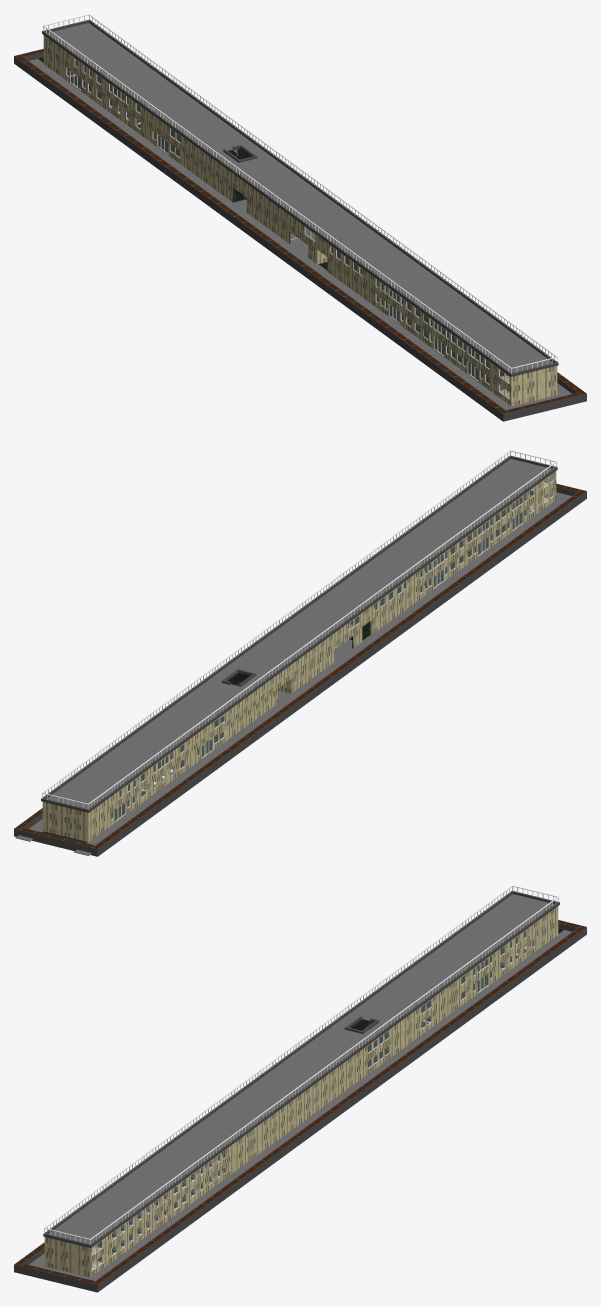
File: build_chunked.glb
The picture shows the model from 3 angles, top to bottom: view 1: azimuth 30°, elevation 25°; view 2: azimuth 150°, elevation 25°; view 3: azimuth 330°, elevation 25°; orthographic projection.
Visible parts, largest first — view 1: chunk_0_-3, chunk_-1_-3, chunk_-1_-5, chunk_0_-1, chunk_0_-5, chunk_0_0, chunk_0_-7, chunk_-1_-1, chunk_0_1, chunk_-1_-6; view 2: chunk_0_-3, chunk_-1_-3, chunk_-1_-5, chunk_0_-1, chunk_0_1, chunk_0_-5, chunk_0_0, chunk_-1_-1, chunk_-1_-6, chunk_0_2, chunk_0_-7; view 3: chunk_0_-3, chunk_0_-5, chunk_0_-1, chunk_-1_-3, chunk_0_-7, chunk_0_1, chunk_0_0, chunk_0_-2.
Boxes of the visible parts, x1,y1,x2,y2 form: chunk_0_-3: (47,18,586,402); chunk_-1_-3: (14,29,514,421); chunk_-1_-5: (317,235,493,392); chunk_0_-1: (63,49,317,248); chunk_0_-5: (319,247,558,407); chunk_0_0: (38,57,250,211); chunk_0_-7: (500,350,581,420); chunk_-1_-1: (148,126,223,195); chunk_0_1: (42,14,101,92); chunk_-1_-6: (430,319,482,381); chunk_0_-3: (14,451,551,841); chunk_-1_-3: (74,462,586,856); chunk_-1_-5: (362,484,538,629); chunk_0_-1: (108,613,362,812); chunk_0_1: (41,784,120,842); chunk_0_-5: (351,471,562,640); chunk_0_0: (42,677,289,842); chunk_-1_-1: (193,695,268,765); chunk_-1_-6: (474,493,526,555); chunk_0_2: (19,827,94,855); chunk_0_-7: (501,450,580,510); chunk_0_-3: (49,894,586,1292); chunk_0_-5: (43,1075,327,1278); chunk_0_-1: (327,920,538,1103); chunk_-1_-3: (14,889,509,1273); chunk_0_-7: (20,1221,116,1291); chunk_0_1: (500,885,559,964); chunk_0_0: (351,928,563,1067); chunk_0_-2: (344,1016,389,1068).
Bounding box in the file's own units: 17.2 × 7.96 × 175.
23 materials, 14 textured.
